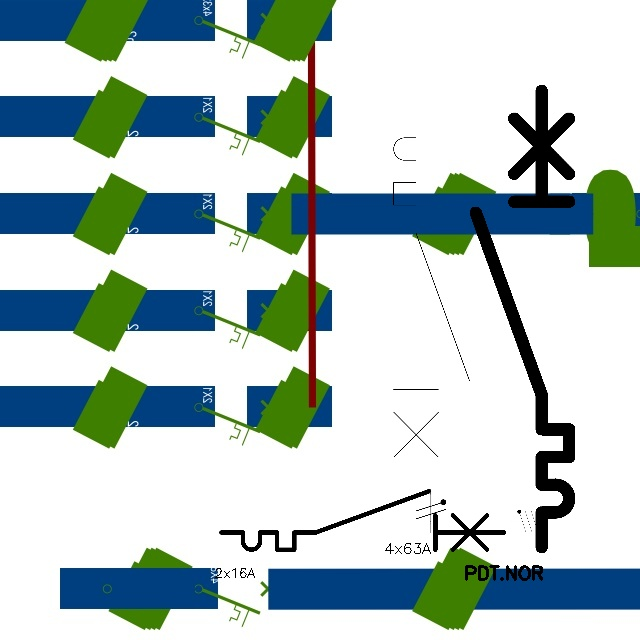interruptor_termomagnetico: (464, 79, 581, 559), (384, 100, 479, 489), (214, 484, 512, 557)
